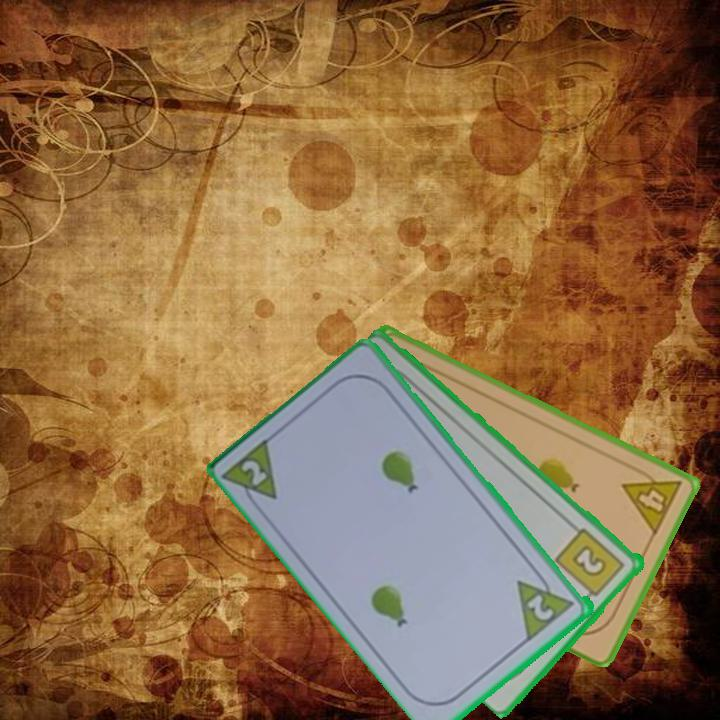2b: (552, 524, 628, 605)
2p: (513, 564, 579, 643), (220, 433, 282, 516)
4p: (618, 461, 686, 539)
